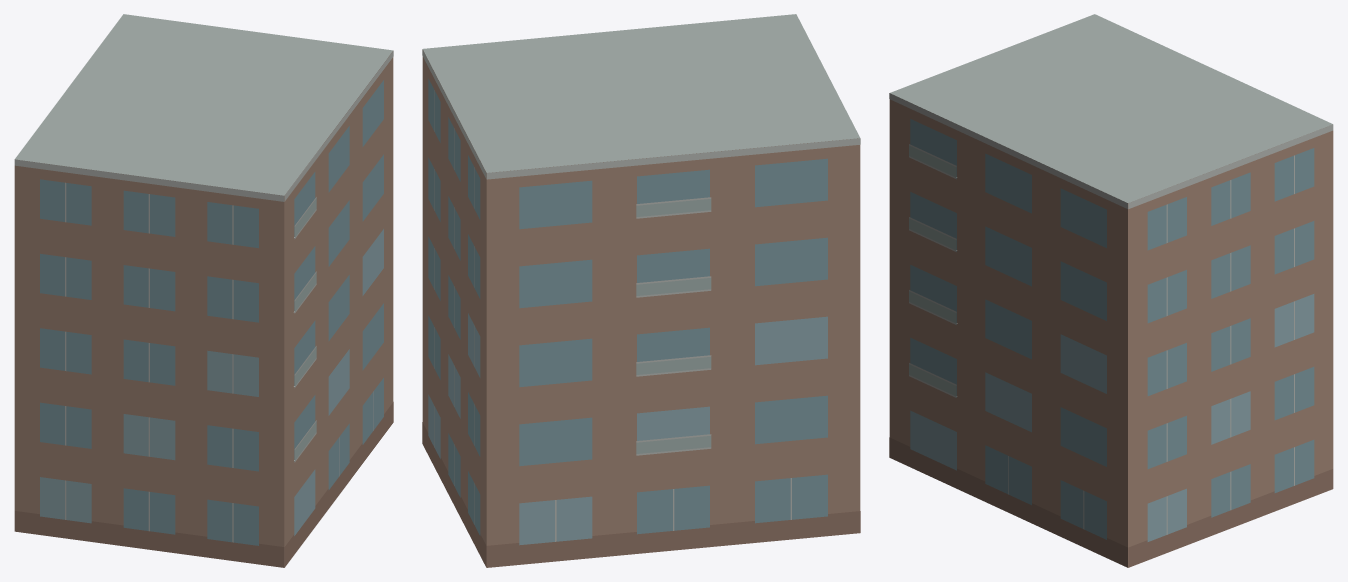
File: survey-upis-32998174.glb
The picture shows the model from 3 angles, left to right: view 1: azimuth 30°, elevation 25°; view 2: azimuth 150°, elevation 25°; view 3: azimuth 270°, elevation 25°; orthographic projection. The views are drawn at different scales.
Visible parts, largest first — view 1: survey-upis-32998174.tmp; view 2: survey-upis-32998174.tmp; view 3: survey-upis-32998174.tmp.
Part boxes in pixels (<box>): survey-upis-32998174.tmp: <box>14,14,393,567</box>; survey-upis-32998174.tmp: <box>422,14,860,567</box>; survey-upis-32998174.tmp: <box>889,14,1333,567</box>.
Bounding box in the file's own units: 16.2 × 14.55 × 16.06.
